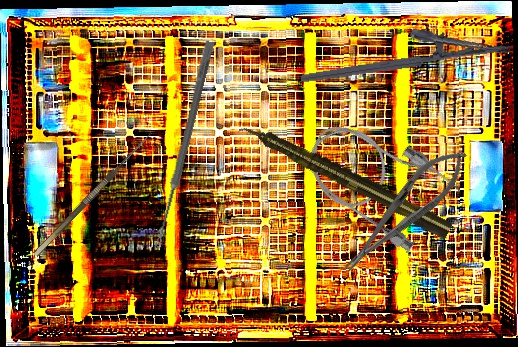Cannula: (291, 101, 467, 259)
Handpiece: (236, 115, 454, 242)
Hook Surgical: (26, 125, 155, 257)
Needle Holder: (331, 136, 478, 284), (296, 15, 512, 84)
Surgical Spoon: (152, 40, 215, 252)
